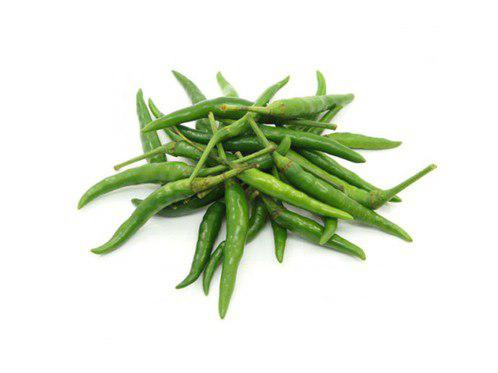lada hijau: (279, 159, 407, 245), (96, 180, 198, 259), (237, 161, 351, 222), (256, 122, 363, 178), (270, 204, 366, 266), (211, 189, 255, 318), (235, 170, 342, 221), (72, 160, 191, 203), (143, 96, 257, 132), (254, 91, 364, 126), (129, 89, 169, 164)
